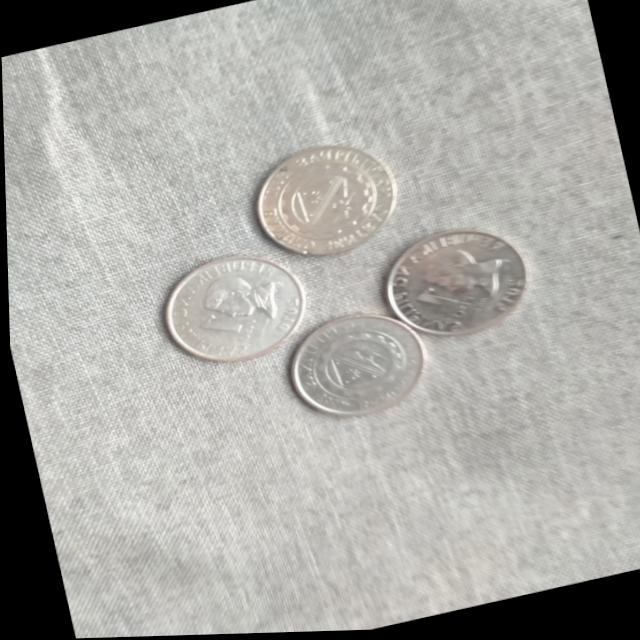1_Old_Back: (262, 149, 387, 246), (303, 322, 405, 412)
